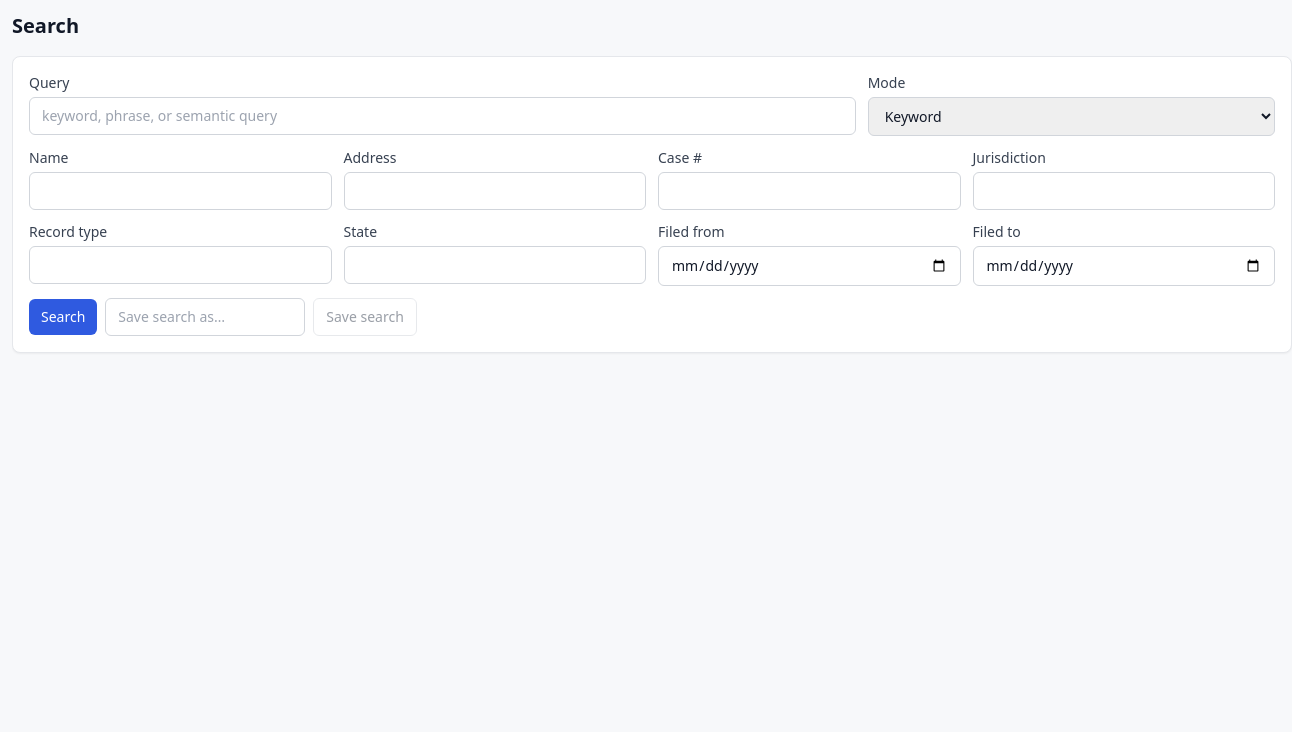
Test: search page › runs a search and shows results
Type "Rivera" into the field with placeholder "keyword, phrase, or semantic query". click: (442, 116)
box: [29,97,856,135]
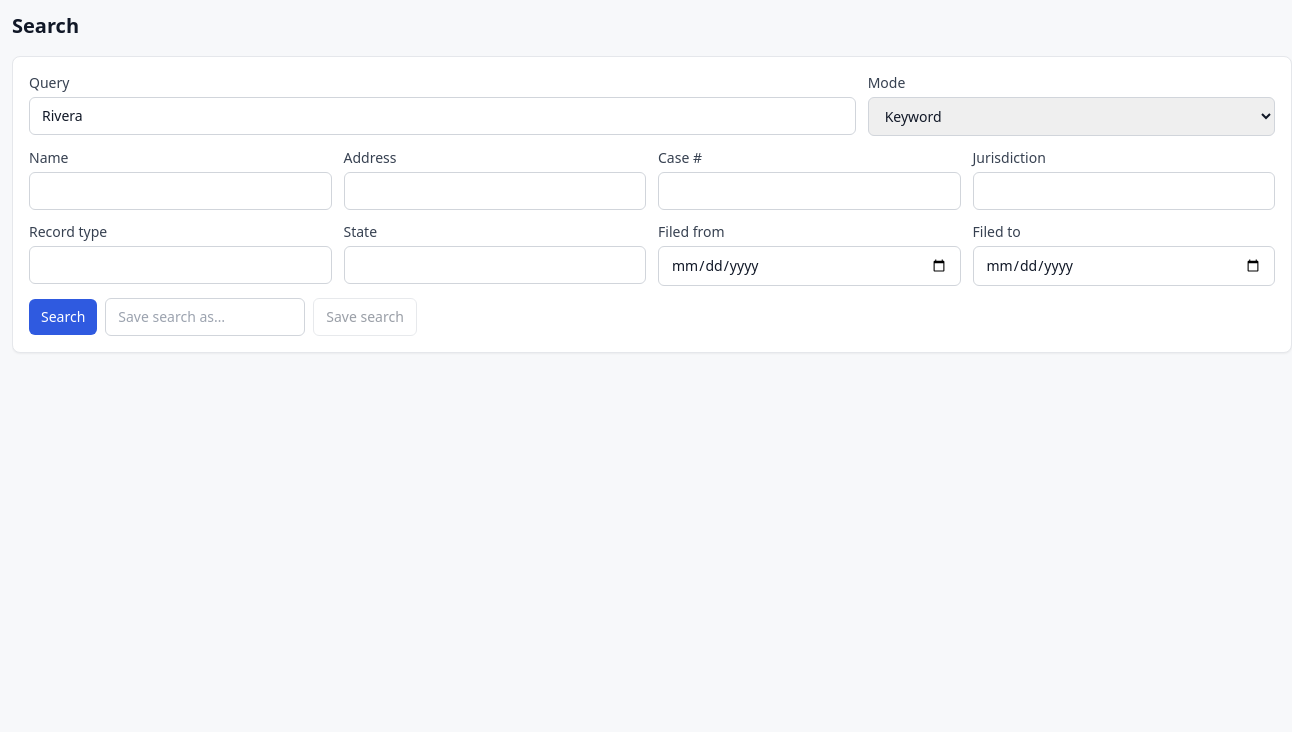
Click the button "Search". click: (63, 317)
box: [29,299,97,335]
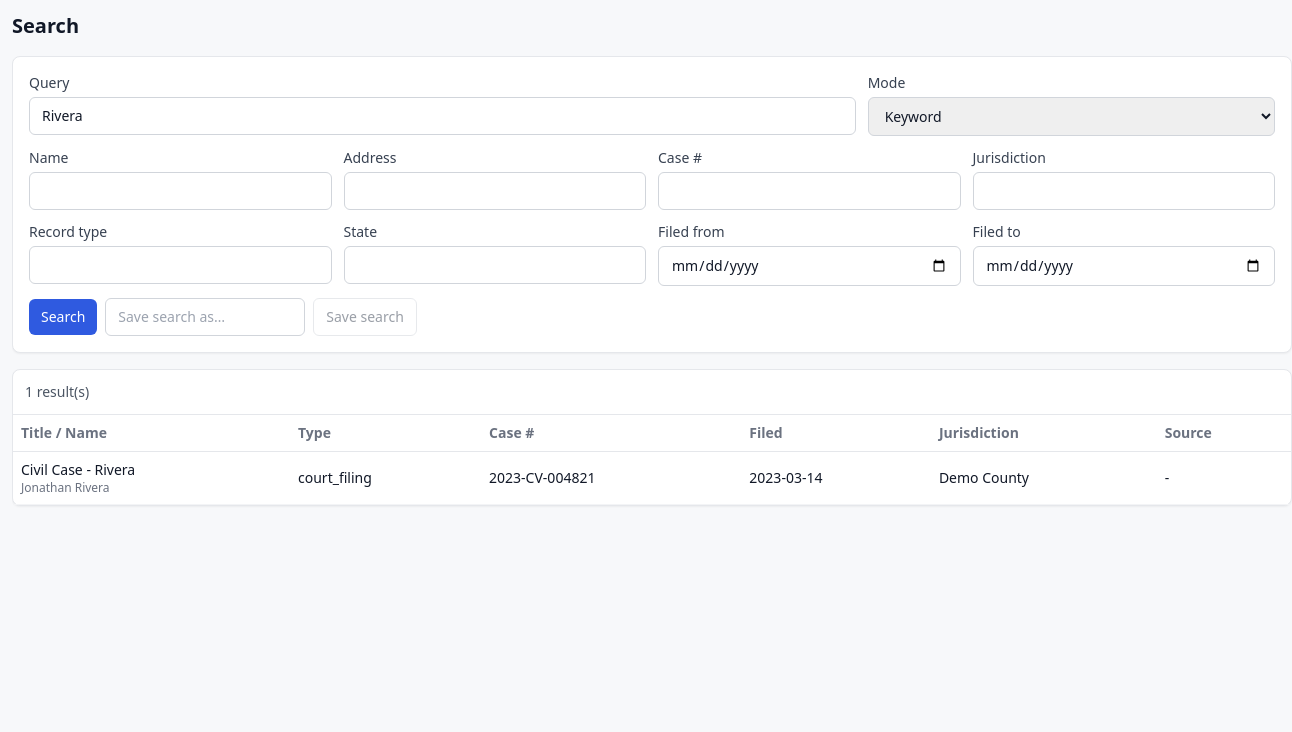
Expected: the field with placeholder "Save search as…" is shown, [105,298,305,336]
Expected: the link "Civil Case - Rivera" is shown, [21,460,135,479]
